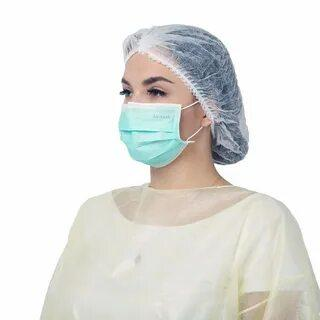hairnet: (115, 18, 274, 165)
mask: (96, 90, 192, 175)
